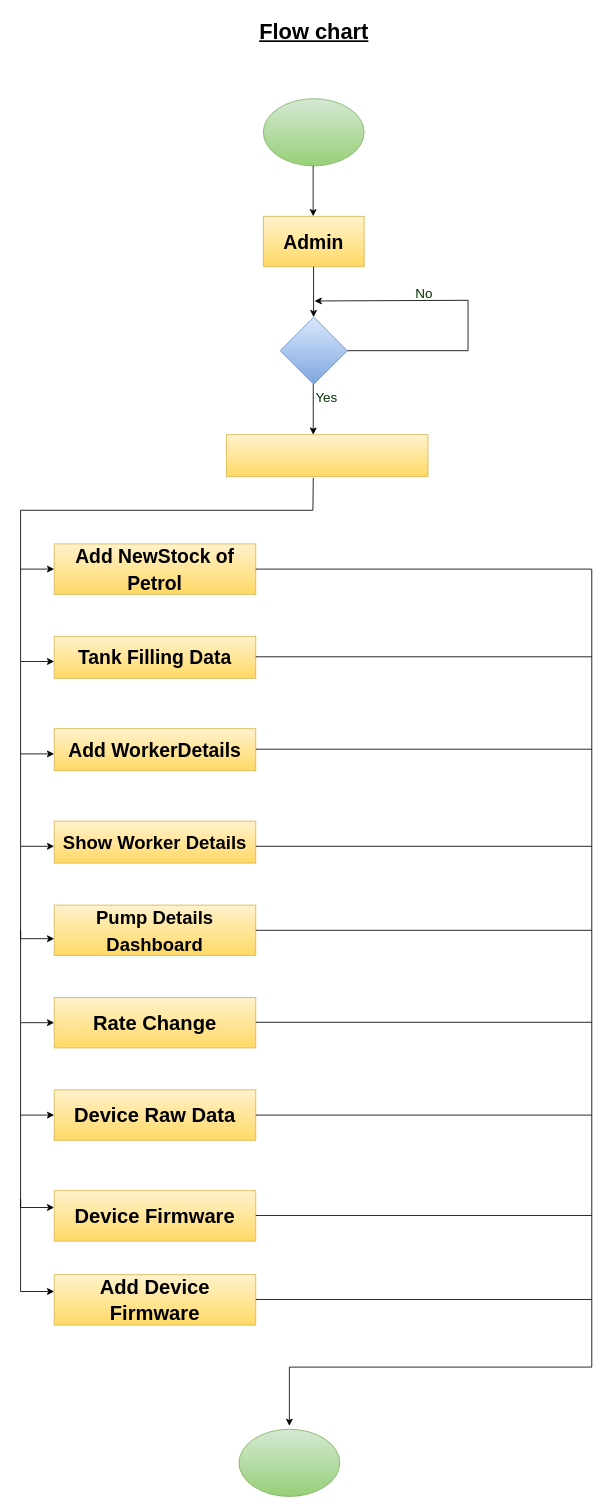
Some shapes in this 613 by 1511 pixel diagram are drawn without their labels. The shapes that lost their labels are listed below. From the top down, each one's centre as x and y in pixels, then its label:
point (313, 132): Start
point (313, 350): login
point (327, 455): Add Pump
point (289, 1462): End
